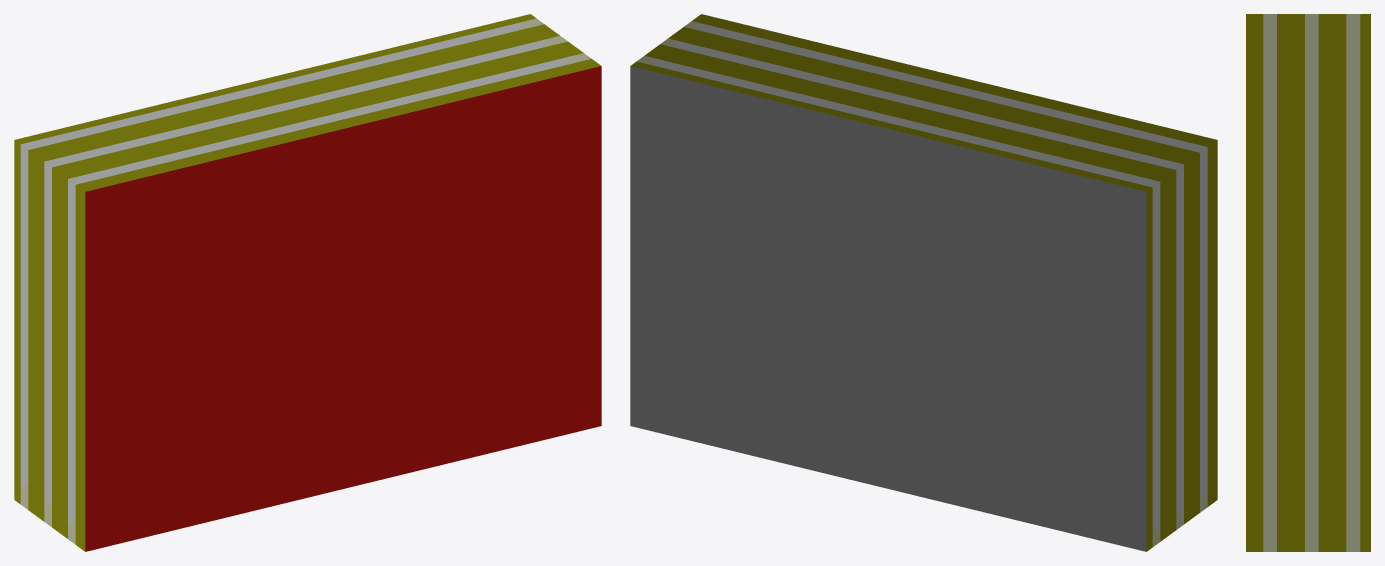
File: idf.obj
3 views of the same model, side by side, from view 1: azimuth 30°, elevation 25°; view 2: azimuth 150°, elevation 25°; view 3: azimuth 270°, elevation 25° (orthographic). The views are drawn at different scales.
Bounding box in the file's own units: 49.91 × 33.27 × 11.89.
